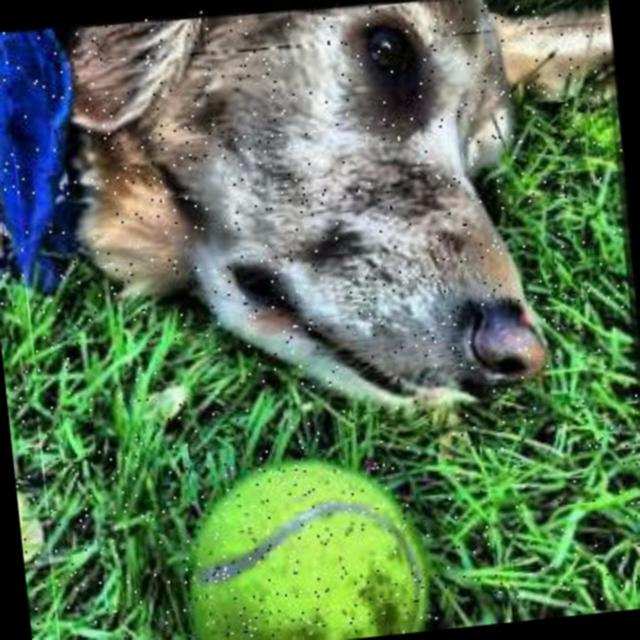tennis-ball: (178, 437, 442, 640)
